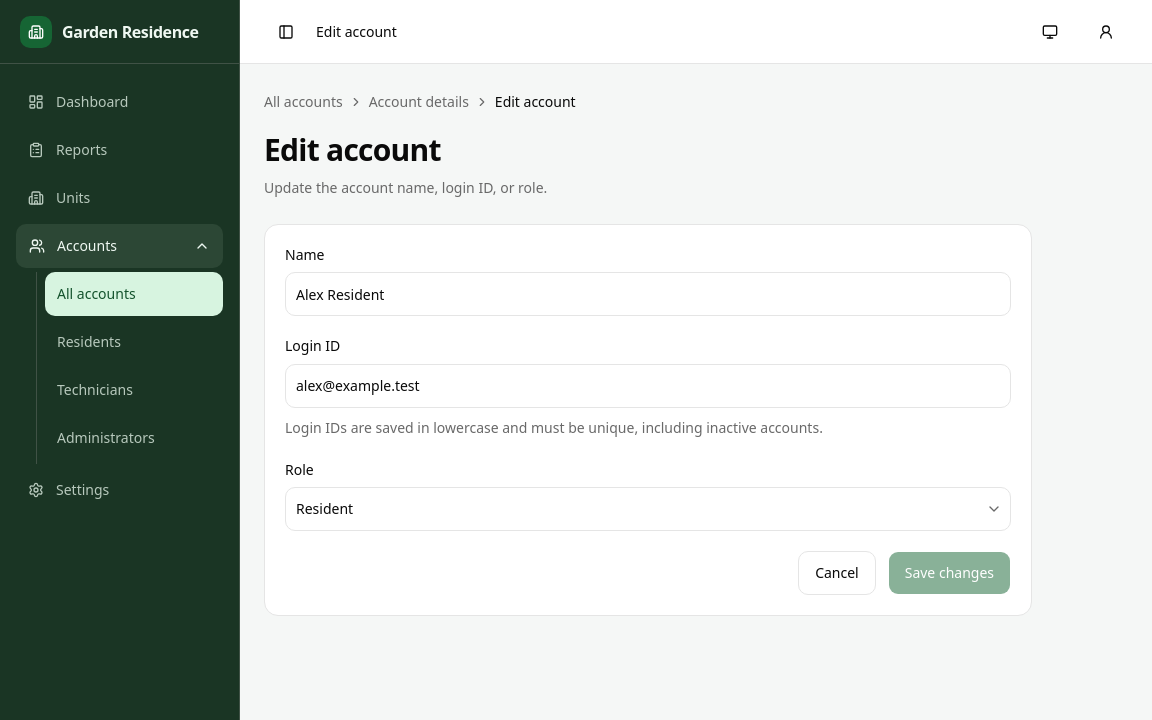
Test: focuses a field error after closing the resident role confirmation
This screenshot has width=1152, height=720.
Replace the text in the field labelled "Login ID" with "duplicate" at coordinates (648, 386), box [285,364,1011,408]
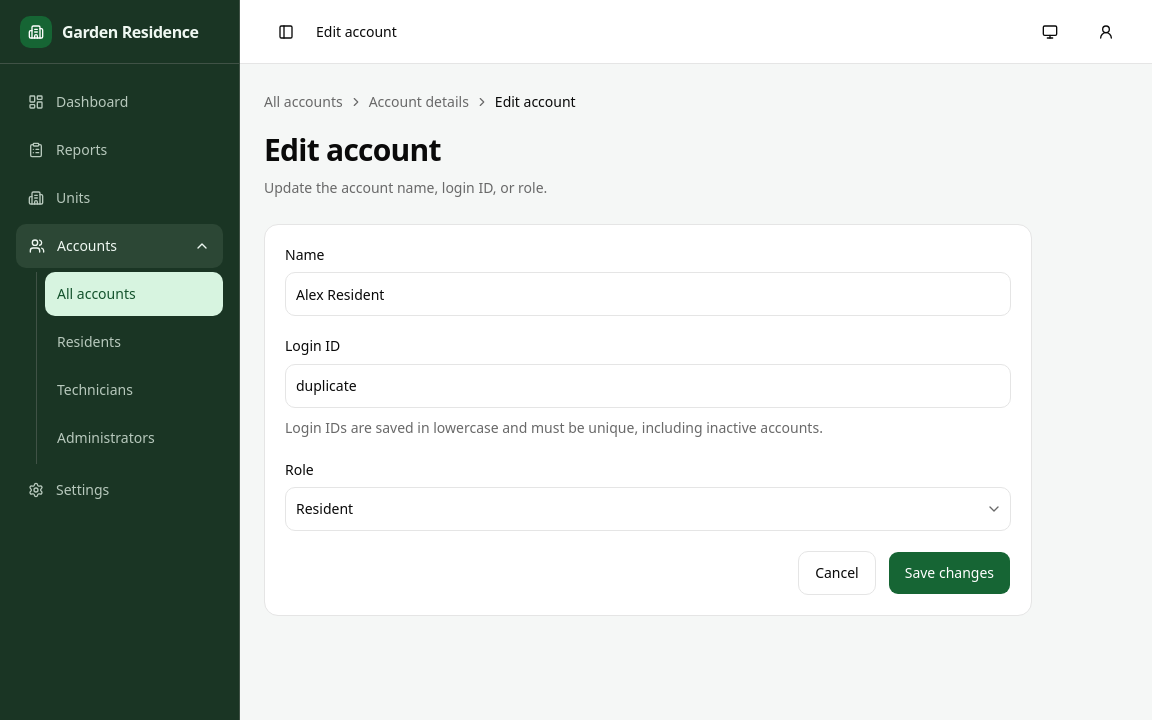
Click the dropdown named "Role" at coordinates (325, 508), box [285,487,1011,531]
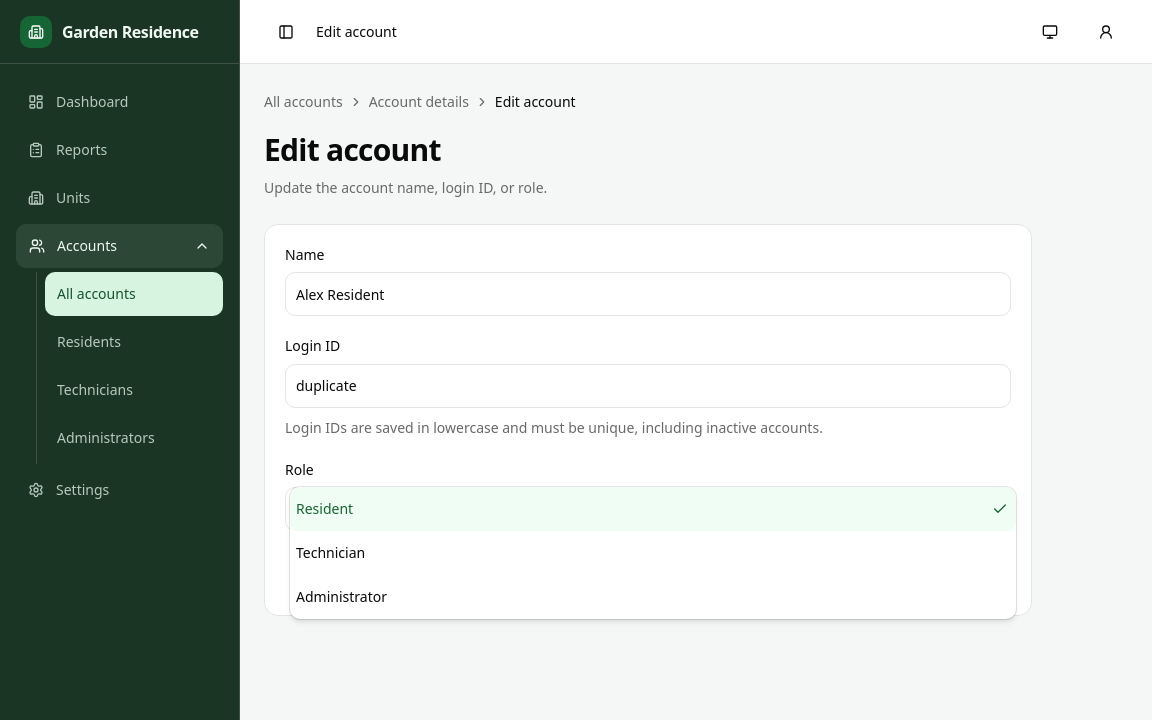
Click the option "Technician" at coordinates (331, 552), box [296,543,365,562]
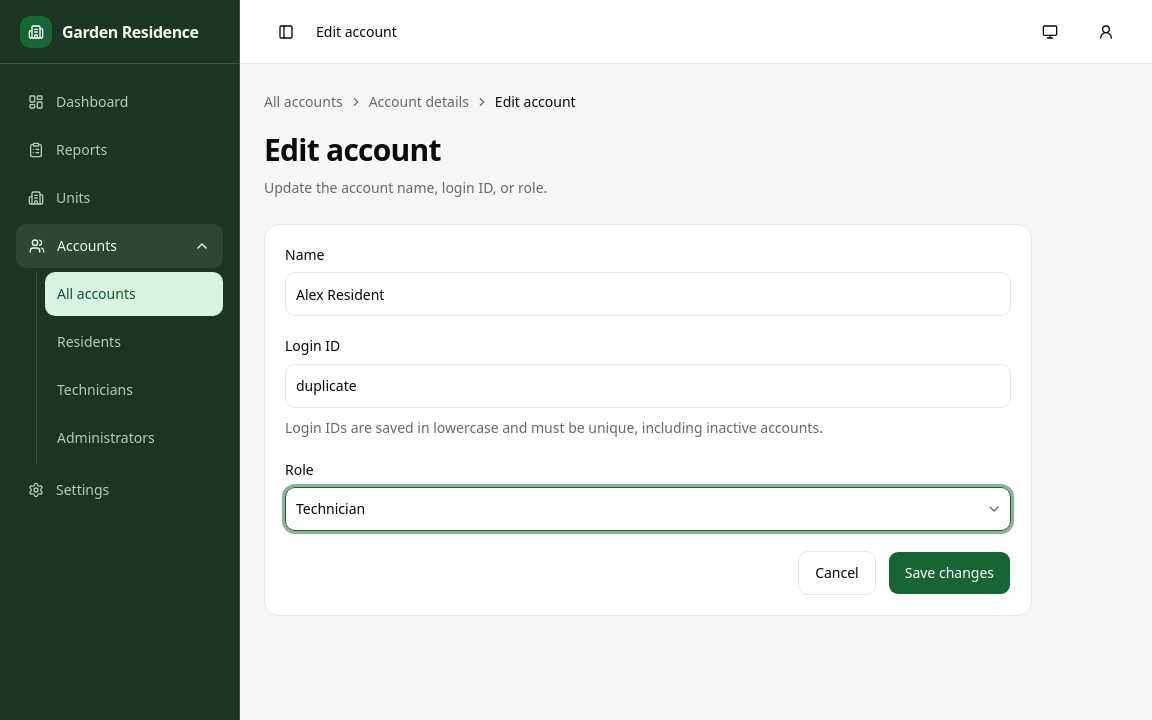
Click the button "Save changes" at coordinates (949, 573), box [888,551,1011,595]
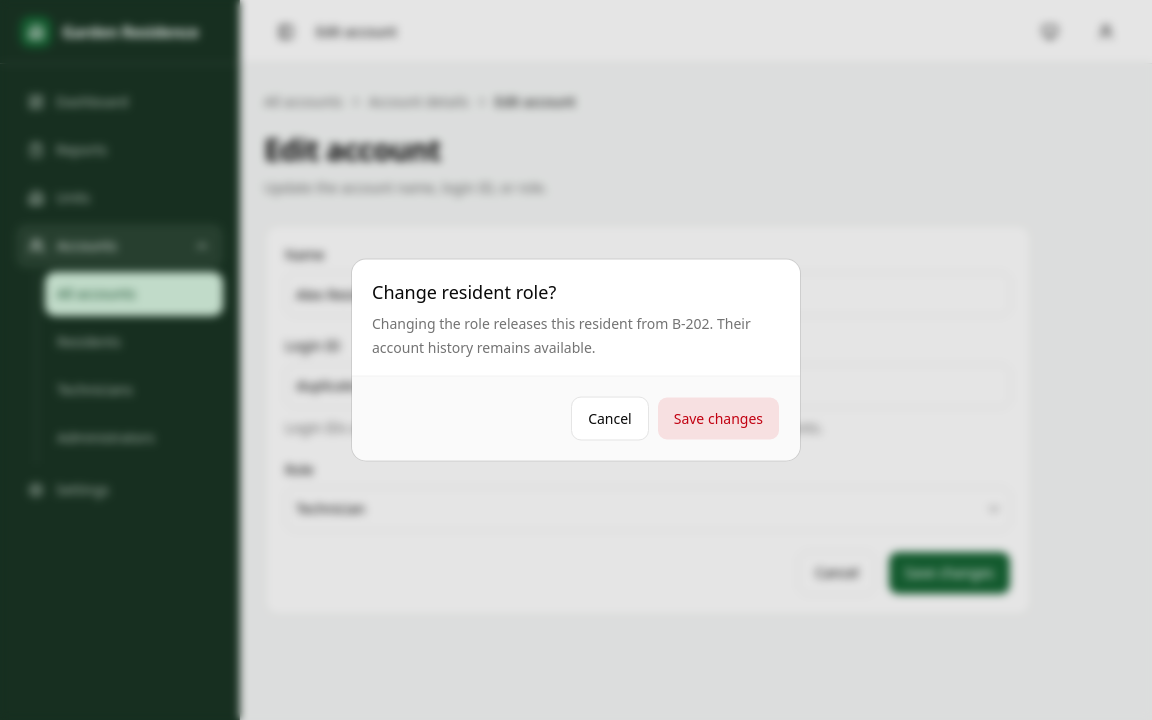
Click the button "Save changes" at coordinates (718, 418), box [657,396,780,440]
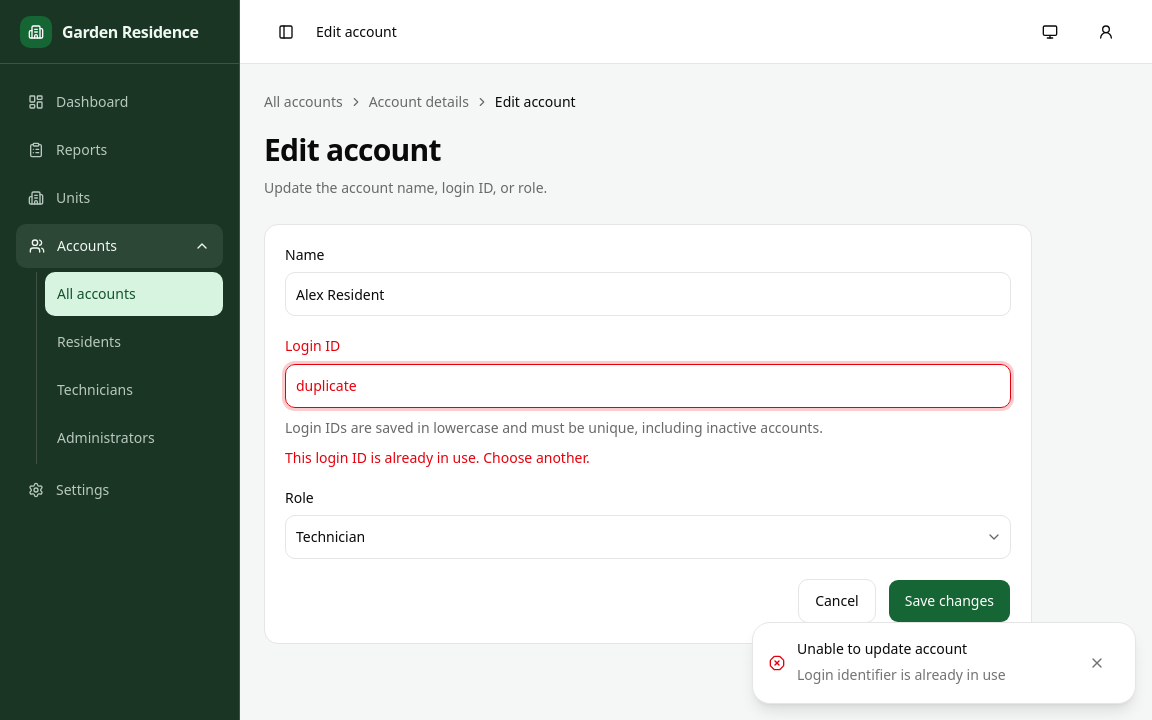
Expected: the dropdown named "Role" shows "Technician", [285,515,1011,559]
Expected: the text "This login ID is already in use. Choose another." is shown, [285,448,590,466]
Expected: the heading "Change resident role?" is gone
